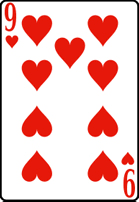nine of hearts: (2, 1, 139, 201)
